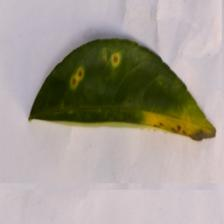canker: (63, 52, 220, 145)
